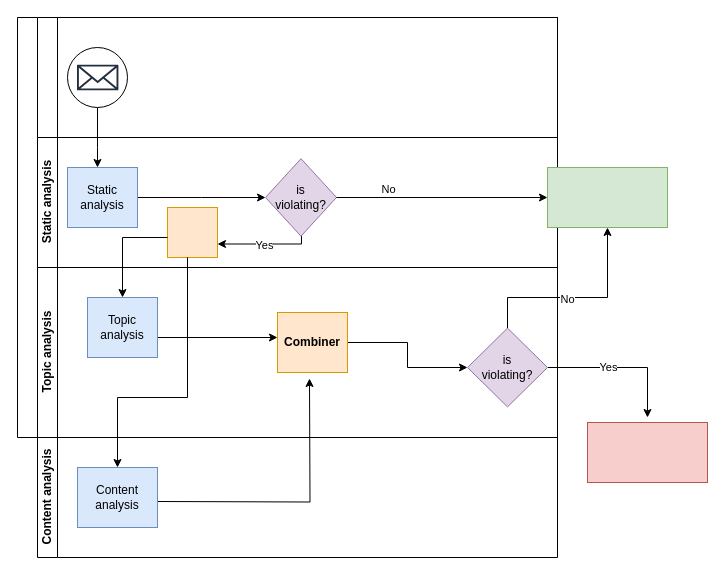
Image size: 725x575. Some labels were removed from this diagram. The box of each missing label's shape, as (x1, y1, x2, y2) in pixels:
Allow: (546, 166, 668, 228)
API: (36, 16, 558, 138)
Block: (586, 422, 708, 482)
Parallel: (166, 206, 218, 258)
